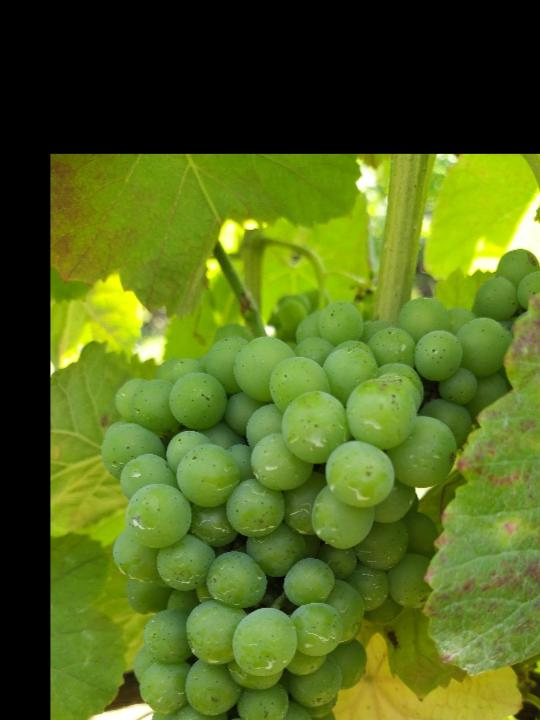grape: (98, 336, 454, 720)
